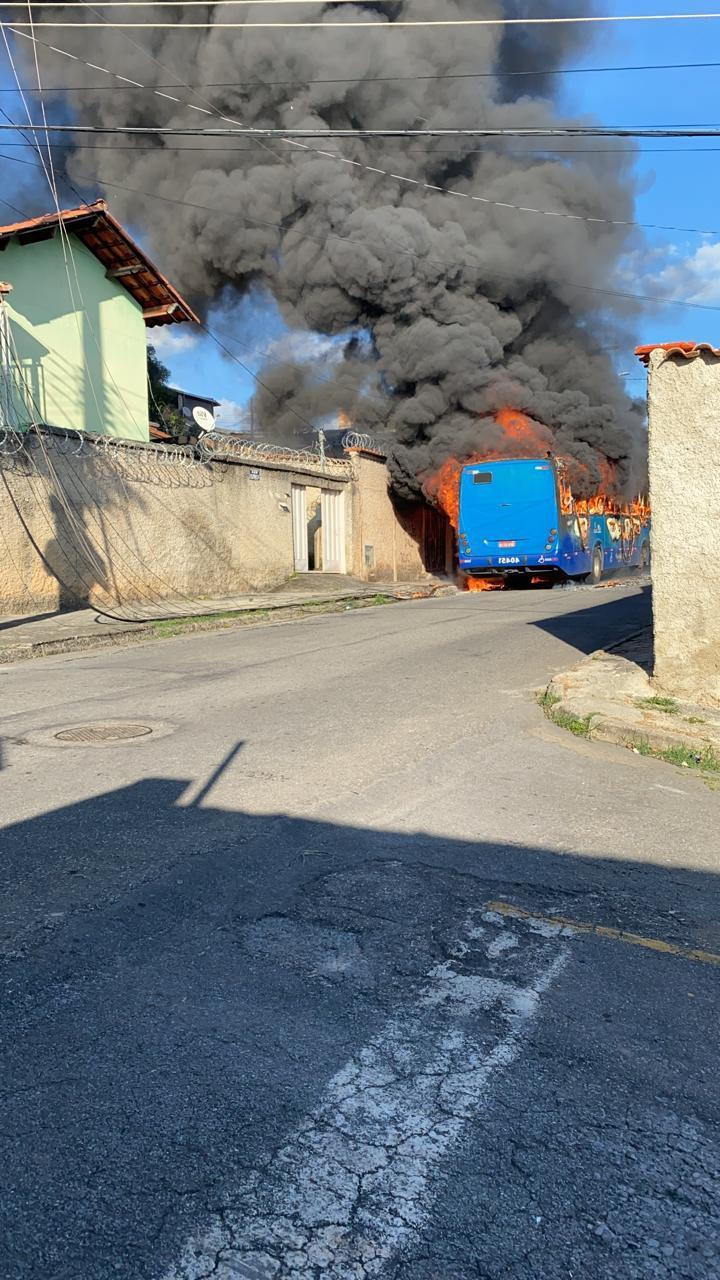Fire: (436, 456, 471, 530), (559, 490, 615, 515), (626, 495, 652, 530), (467, 576, 506, 592)
